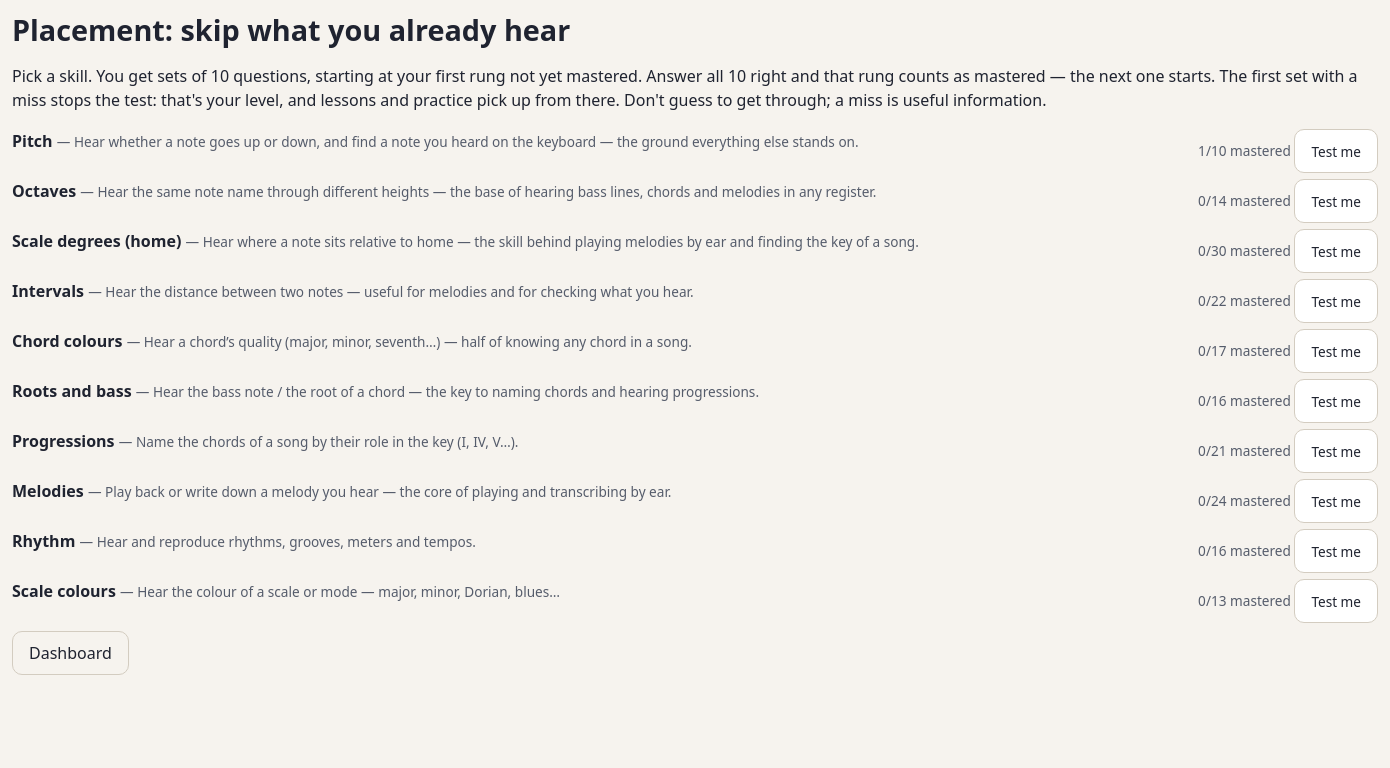
Test case: placement › lists every skill and starts at the first rung not yet mastered
Expected: the text "1/10 mastered" is shown, [1198, 129, 1378, 173]
Click the button "Test me" in the row of "Pitch". click: coordinates (1336, 151)
box: [1294, 129, 1378, 173]
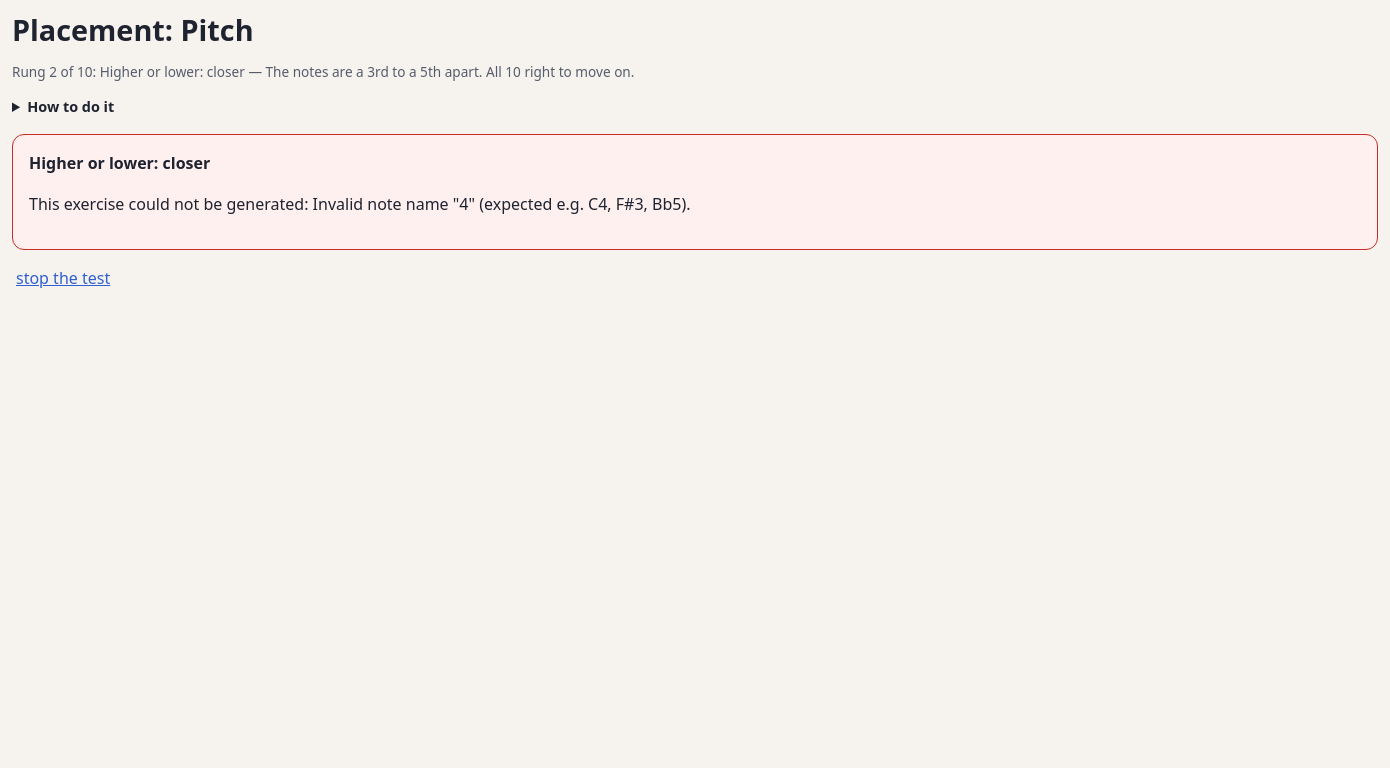
Expected: the text "All 10 right to move on" is shown, [12, 62, 634, 81]
